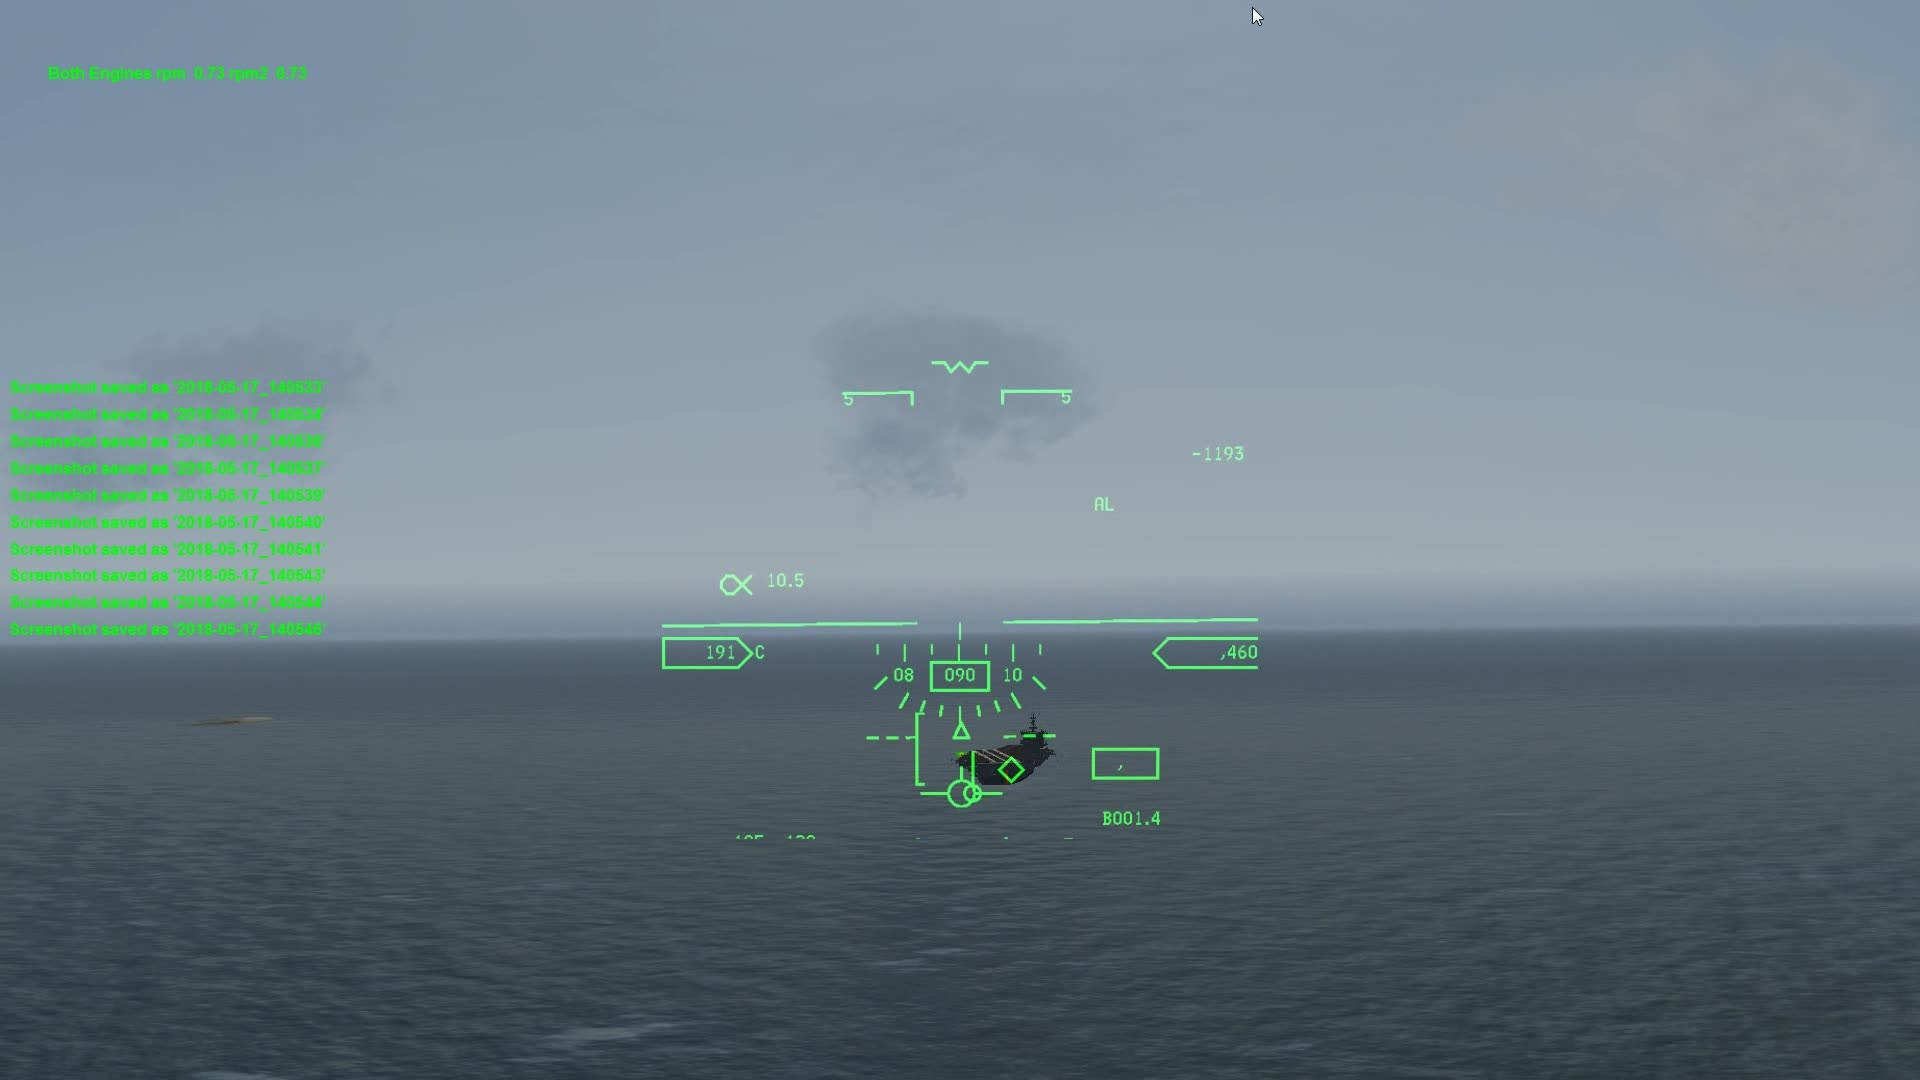speed vector: (930, 764, 998, 808)
